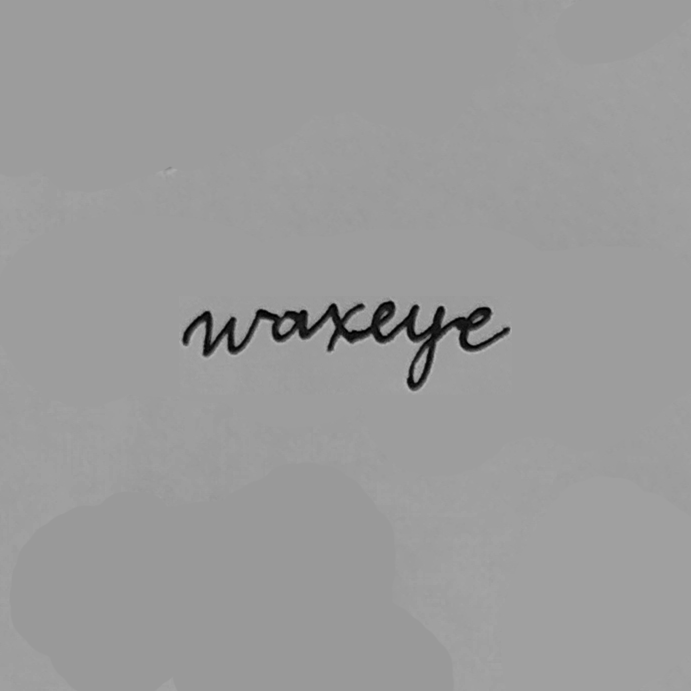a: (266, 303, 311, 348)
e: (455, 301, 512, 353), (369, 296, 401, 345)
w: (195, 303, 263, 358)
x: (320, 298, 368, 357)
y: (403, 301, 448, 393)
